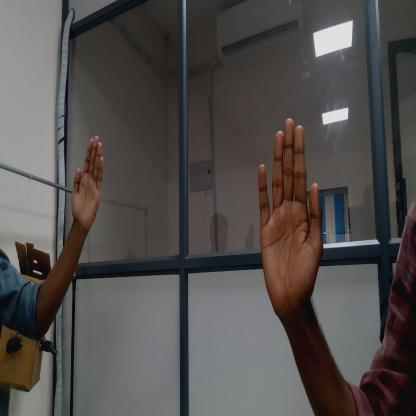Stop: (246, 112, 340, 317), (68, 127, 119, 238)
